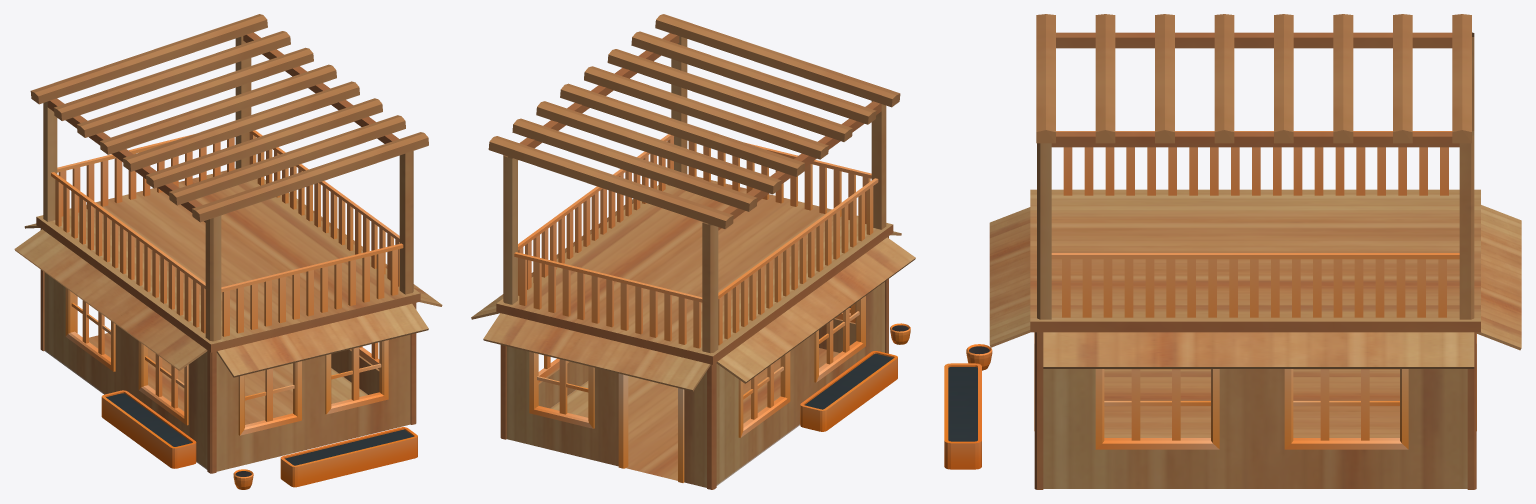
Rendered from FoodWood.fbx.
3 views of the same model, side by side, from view 1: azimuth 30°, elevation 25°; view 2: azimuth 150°, elevation 25°; view 3: azimuth 270°, elevation 25° (orthographic). The views are drawn at different scales.
Parts seen in each view (by area): view 1: FoodWood; view 2: FoodWood; view 3: FoodWood.
Boxes of the visible parts, x1,y1,x2,y2 form: FoodWood: (14,14,442,489); FoodWood: (471,14,915,489); FoodWood: (944,14,1521,489).
Bounding box in the file's own units: 1.85 × 1.91 × 2.72.
